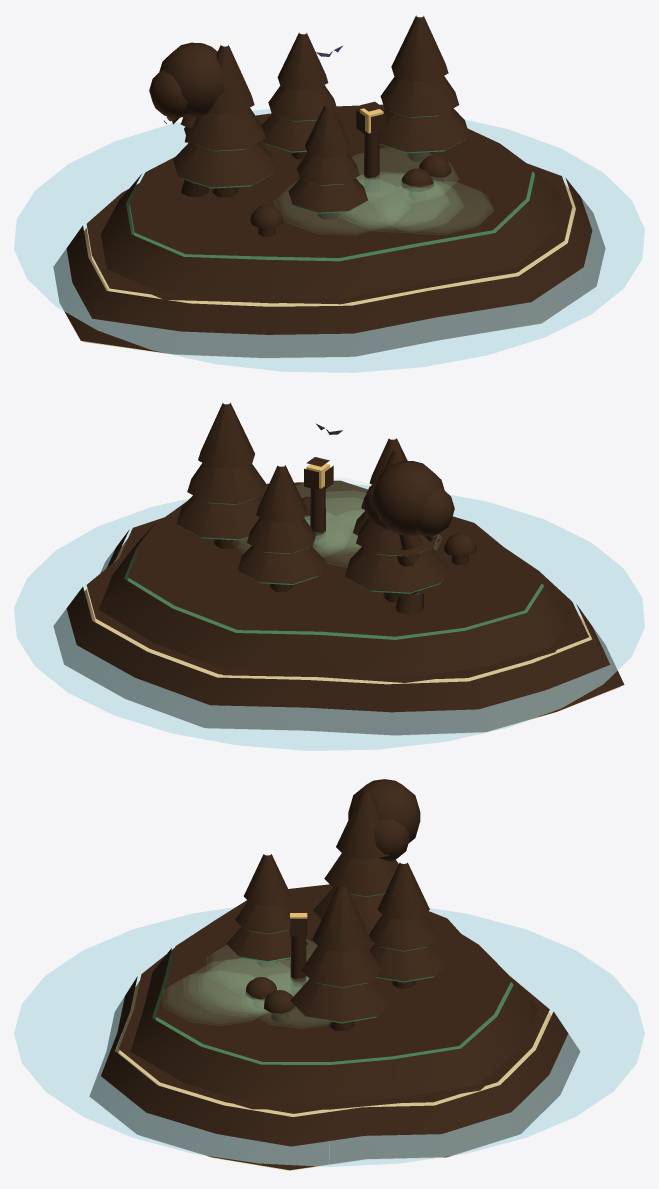
File: island-night.glb
The picture shows the model from 3 angles, top to bottom: view 1: azimuth 30°, elevation 25°; view 2: azimuth 150°, elevation 25°; view 3: azimuth 270°, elevation 25°; orthographic projection.
Parts seen in each view (by area): view 1: outline (×21), Group (×2); view 2: outline (×17), Group (×2); view 3: outline (×18), Group (×2).
Part boxes in pixels (left/top/right/bottom): outline (×21): left=53, top=15, right=605, bottom=357; Group (×2): left=14, top=109, right=644, bottom=372; outline (×17): left=53, top=402, right=624, bottom=735; Group (×2): left=14, top=478, right=644, bottom=750; outline (×18): left=89, top=779, right=580, bottom=1170; Group (×2): left=14, top=907, right=644, bottom=1170.
Bounding box in the file's own units: 5.1 × 2.01 × 5.1.
